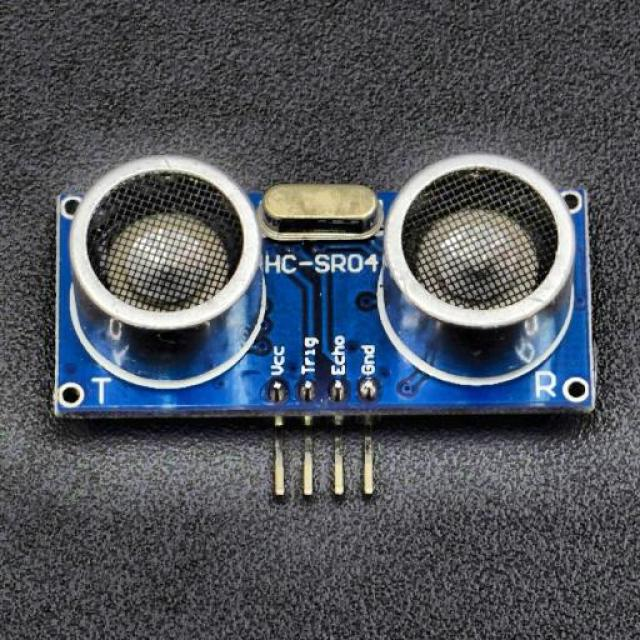Ultrasonic Sensor: (34, 134, 611, 504)
